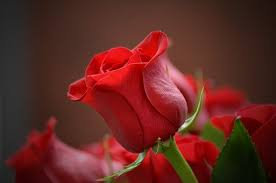lale: (60, 23, 220, 177)
